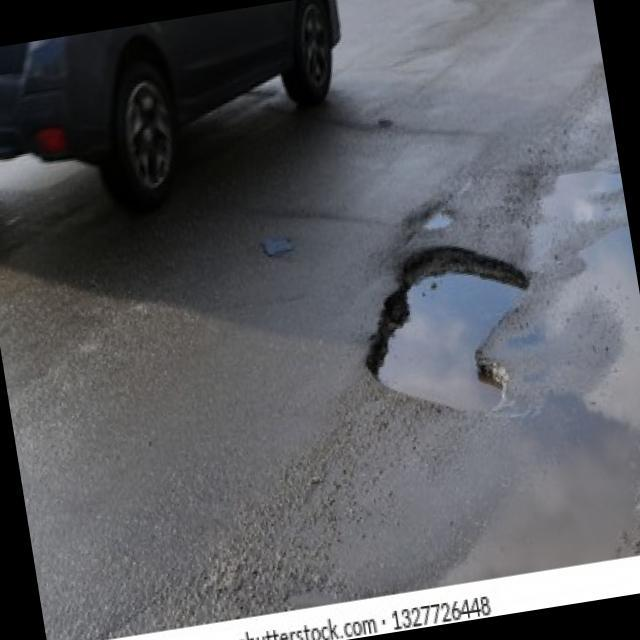Pothole: (349, 232, 549, 438), (417, 204, 459, 233), (260, 232, 294, 260)
